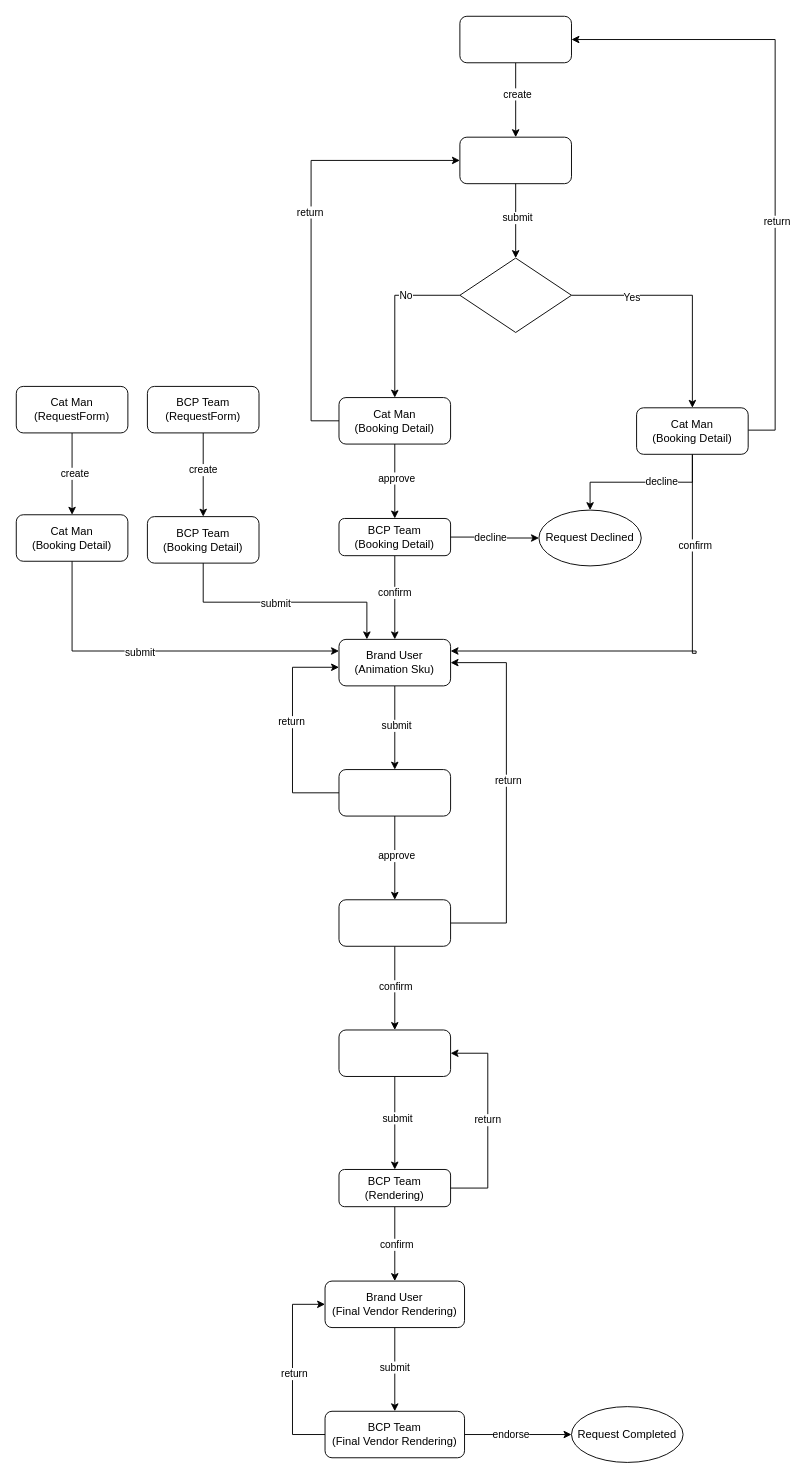
This 806x1479 diagram has some shape labels left out. The centre of each missing label's shape, as x and y in pixels:
"brand is selective" belongs at pixel 515 294.
"Brand User (Booking Detail)" belongs at pixel 515 160.
"Brand User (Rendering)" belongs at pixel 394 1052.
"Brand User (RequestForm)" belongs at pixel 515 39.
"Cat Man (Animation Sku)" belongs at pixel 394 792.
"Demand Planner (Animation Sku)" belongs at pixel 394 922.
